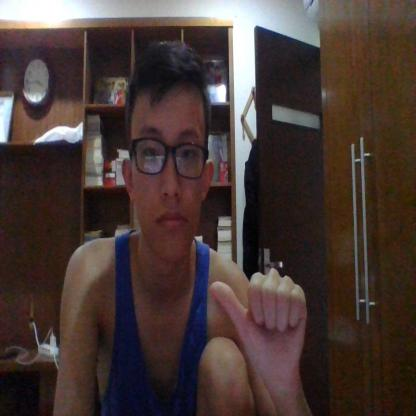right: (208, 256, 310, 380)
